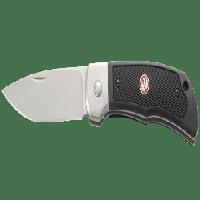knife: (3, 57, 198, 152)
